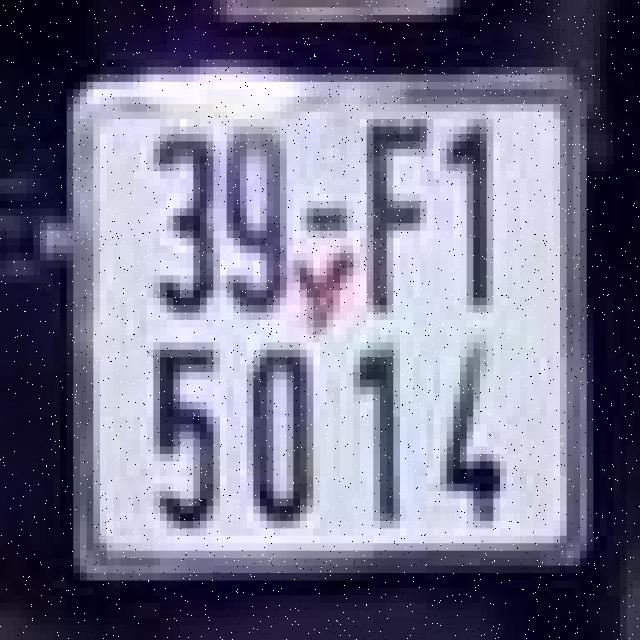0: (234, 324, 334, 547)
1: (440, 108, 513, 331), (347, 335, 420, 536)
3: (147, 119, 220, 313)
4: (423, 324, 517, 547)
5: (130, 342, 223, 544)
9: (223, 100, 297, 324)
F: (340, 101, 440, 331)
